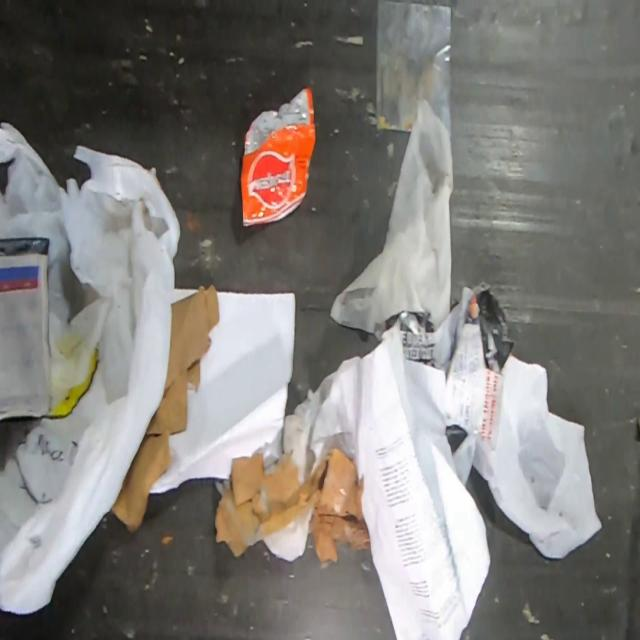cardboard: (109, 283, 220, 534), (214, 448, 371, 566)
rigid_plastic: (375, 0, 456, 135)
soft_plastic: (0, 119, 181, 615), (240, 86, 316, 227), (0, 239, 52, 416)
